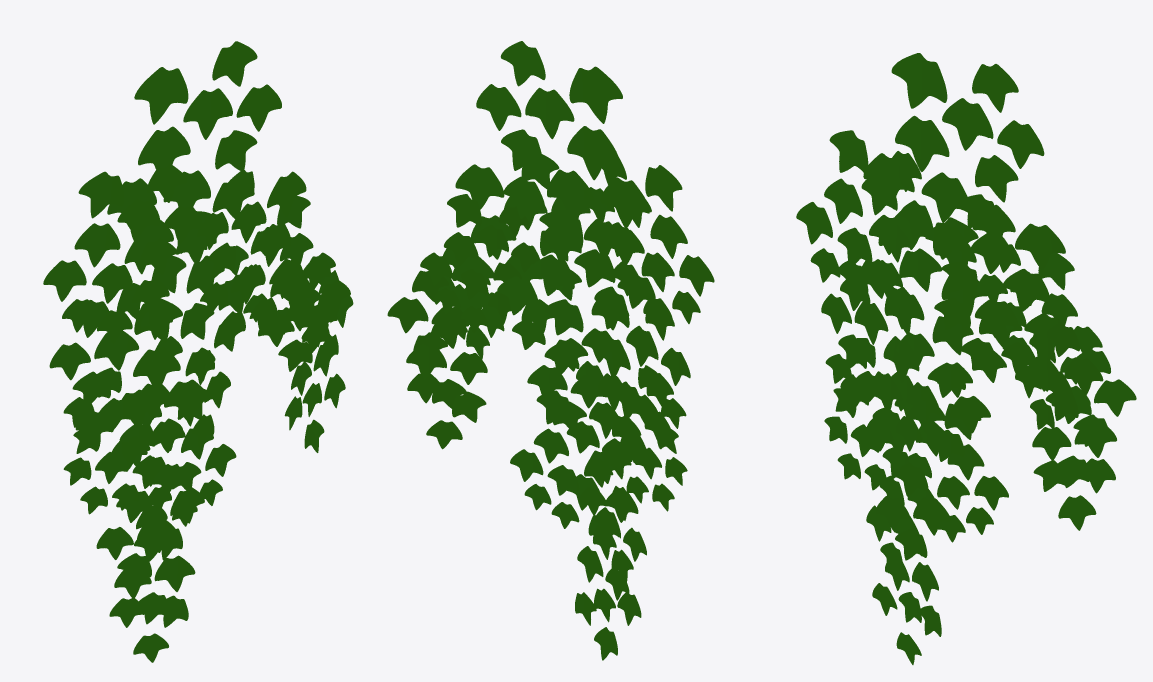
The model's file is Prop_Vine1.obj.
3 views of the same model, side by side, from view 1: azimuth 30°, elevation 25°; view 2: azimuth 150°, elevation 25°; view 3: azimuth 330°, elevation 25° (orthographic). The views are drawn at different scales.
Visible parts, largest first — view 1: Prop_Vine1; view 2: Prop_Vine1; view 3: Prop_Vine1.
Part boxes in pixels (x1=…): Prop_Vine1: x1=43, y1=41, x2=353, y2=662; Prop_Vine1: x1=387, y1=41, x2=714, y2=660; Prop_Vine1: x1=796, y1=53, x2=1136, y2=664.
Size of the model in its own units: 1.54 by 2.6 by 0.219.
